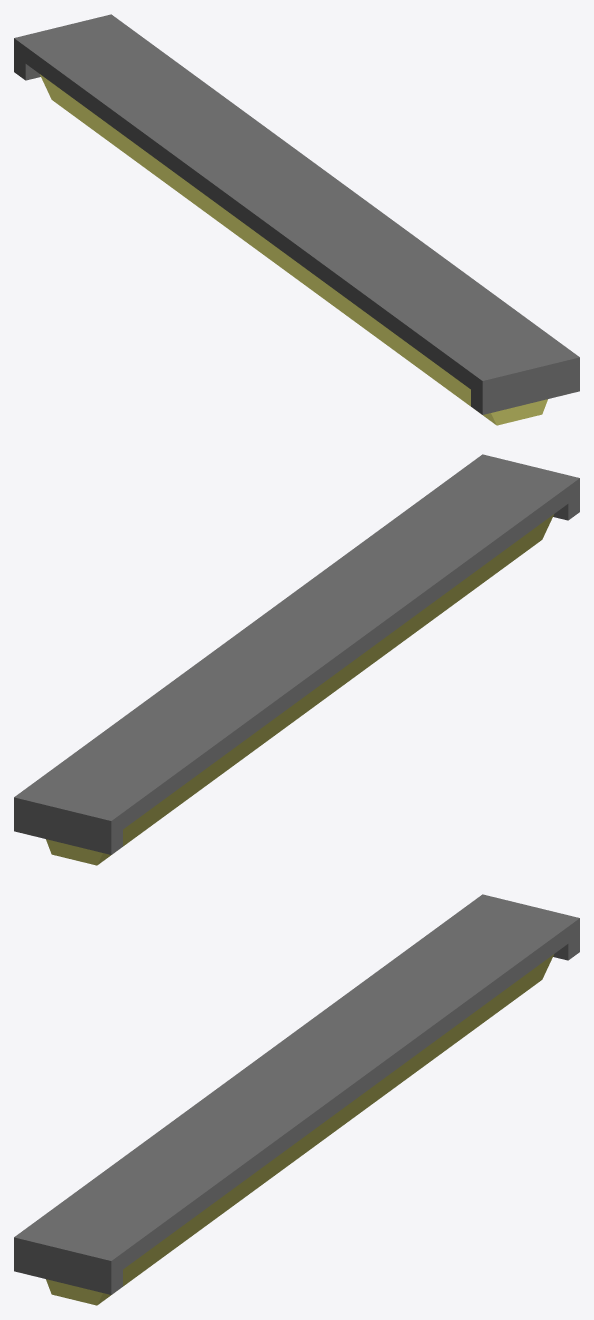
Rendered from Bathroom Light.fbx.
The picture shows the model from 3 angles, top to bottom: view 1: azimuth 30°, elevation 25°; view 2: azimuth 150°, elevation 25°; view 3: azimuth 330°, elevation 25°; orthographic projection.
Visible parts, largest first — view 1: Bathroom Light; view 2: Bathroom Light; view 3: Bathroom Light.
Part boxes in pixels (x1,y1,x2,y2): Bathroom Light: (14,14,579,425); Bathroom Light: (14,454,579,865); Bathroom Light: (14,894,579,1305).
Bounding box in the file's own units: 120 × 70 × 1000.
